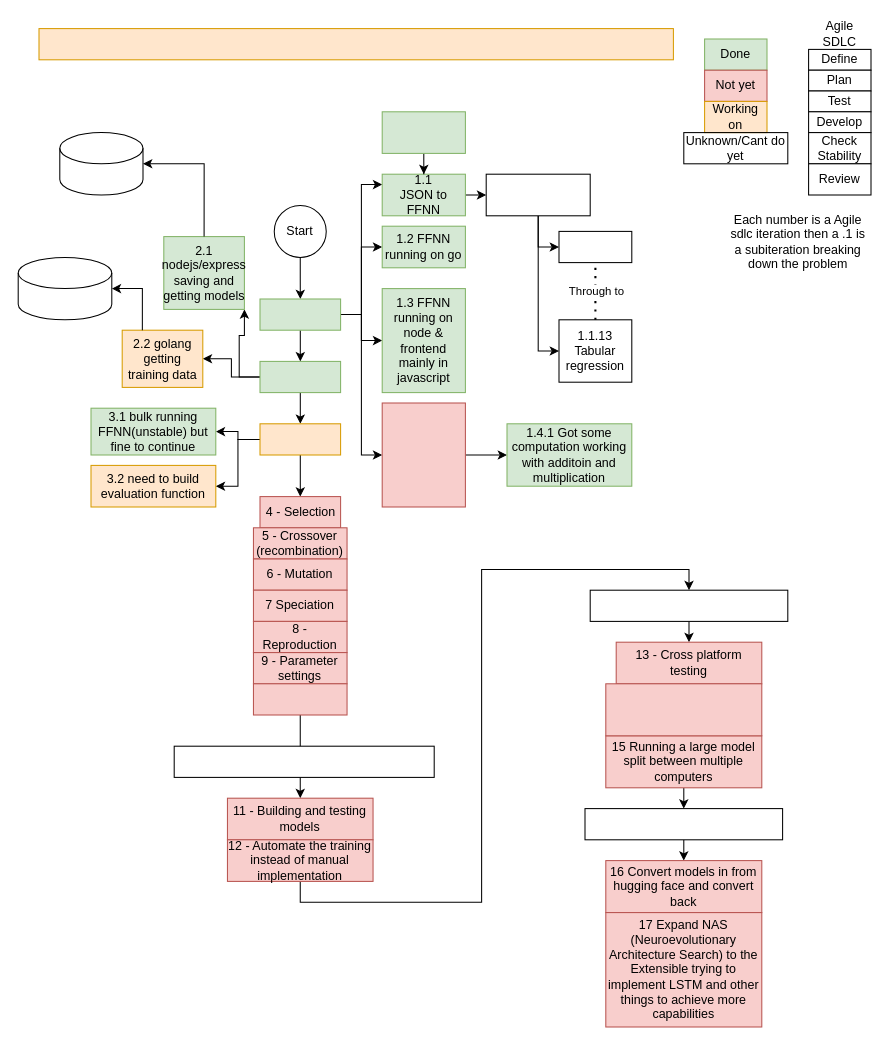
Image size: 889x1045. Some labels were removed from this diagram. The centre of each missing label's shape, as x and y in pixels:
1 - Genome: point 300,314
1.1.1 aiming for these tasks: point 537,194
1.1.2 Image classification: point 595,246
1.4 FFNN godot 4 compute shaders for 80%ish gpu performance: point 423,454
10 - Termination: point 299,699
14 - Running and training models split between multiple computers: point 683,709
2 - Population: point 300,376
3 - Evaluation: point 300,439
MONGODB for models: point 101,163
Mysql for dataset: point 64,288
Phase 1: point 355,44
Phase 2: point 303,761
Phase 3: point 688,605
Phase 4: point 683,824
Proof of concept: point 423,132
